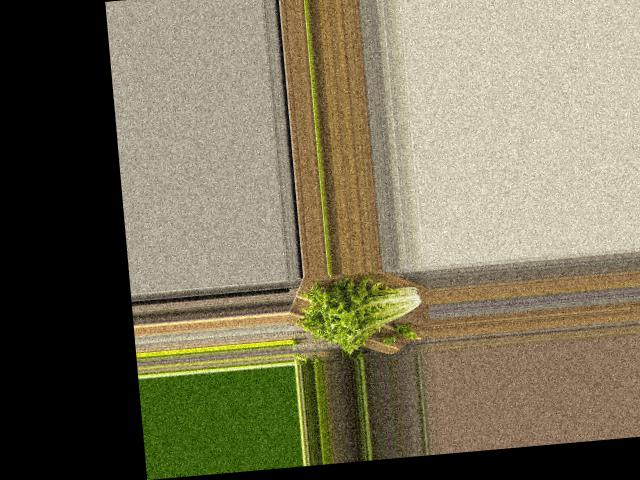lettuce: (298, 270, 432, 355)
